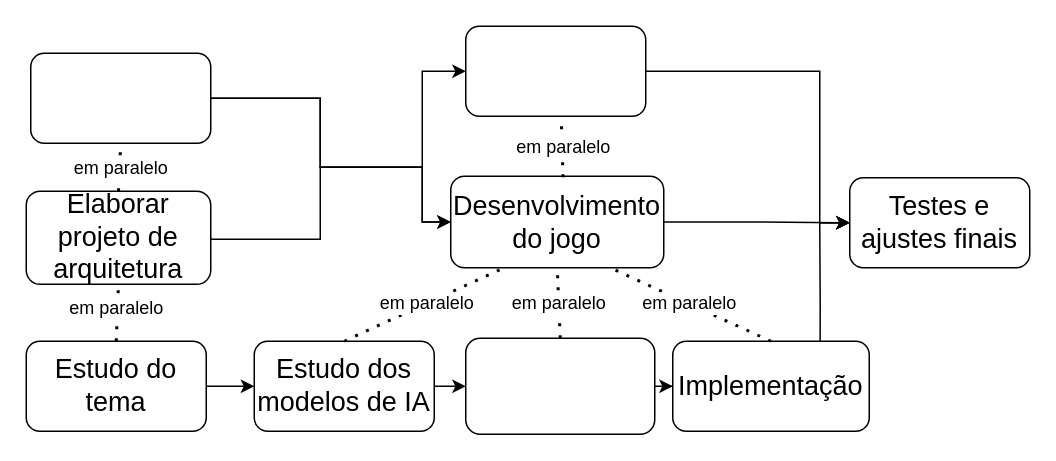
This 1056x461 diagram has some shape labels left out. Each missing label, with the box of its shape:
Elaborar GDD: (29, 52, 211, 143)
Escolha do modelo e treinamento: (464, 337, 655, 434)
Testes: (464, 25, 646, 116)
